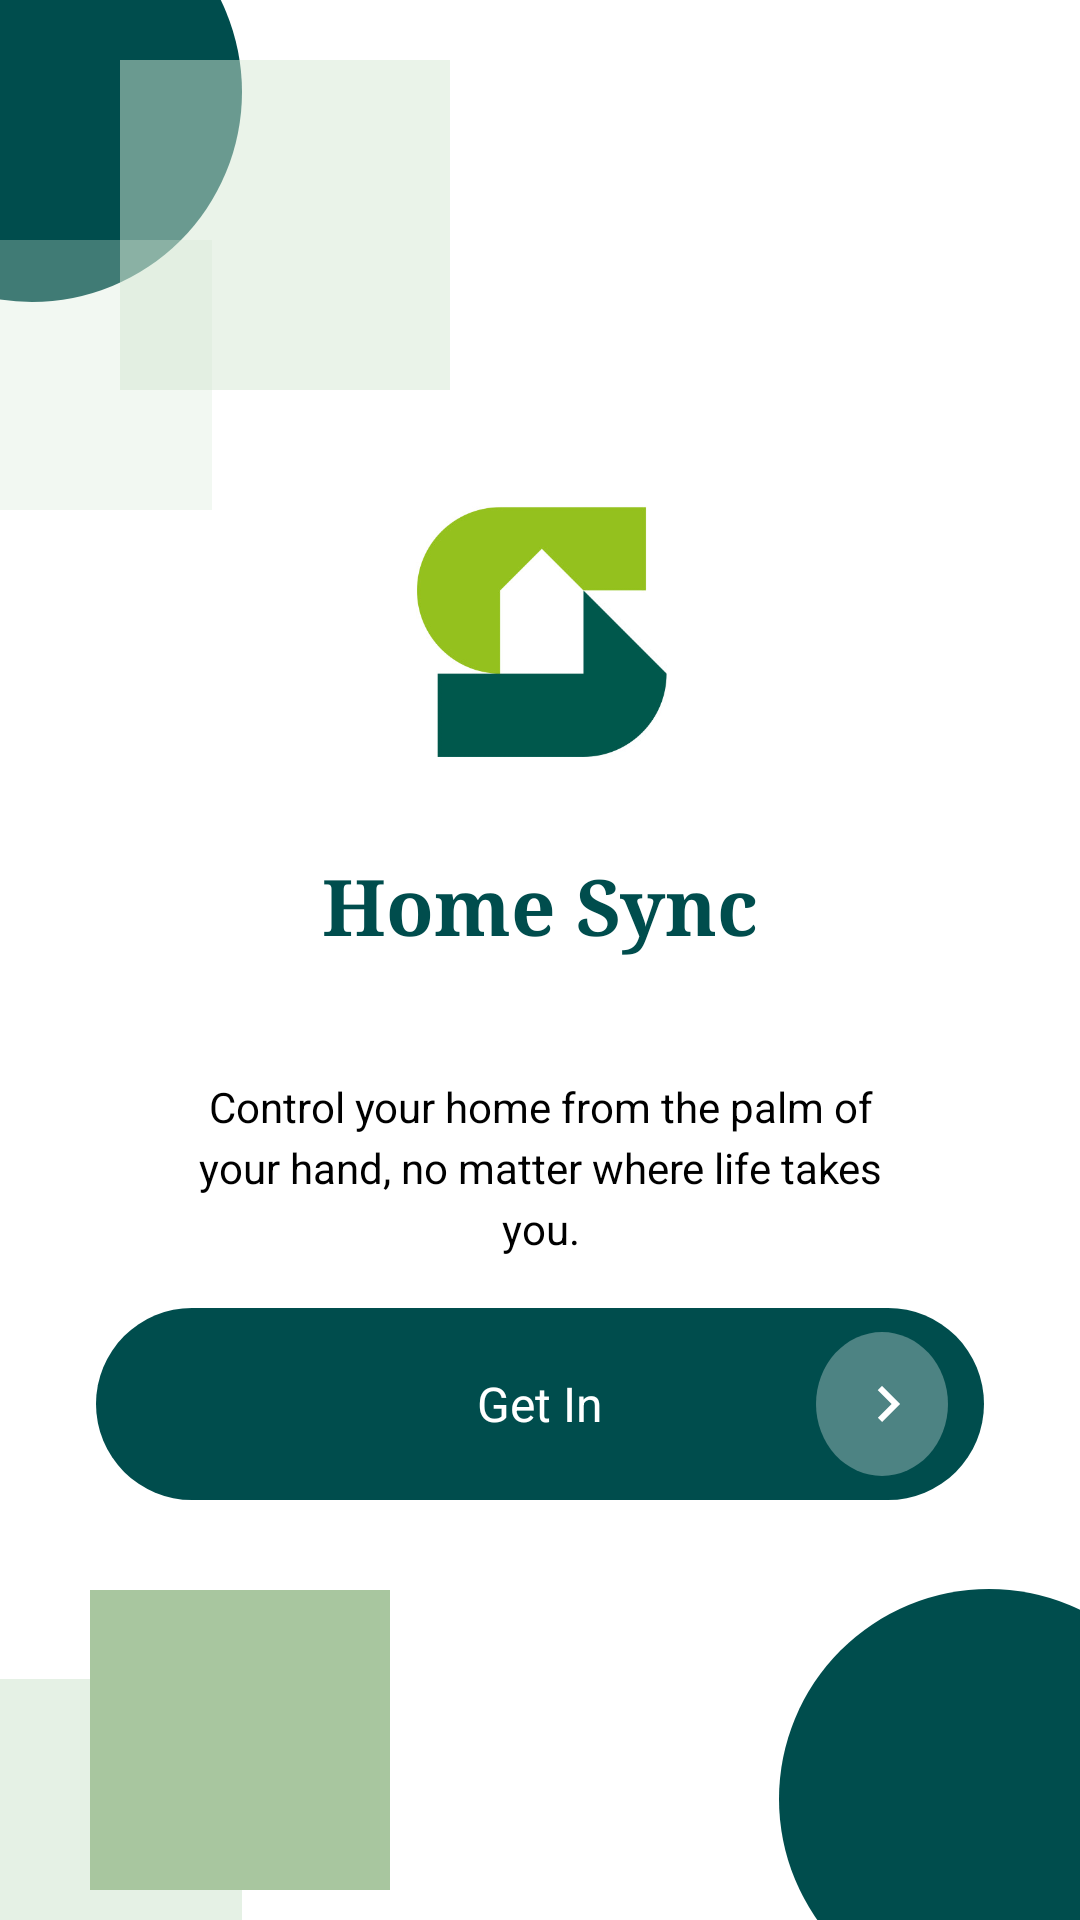

Point at icon controls on the screen. Image size 1080x1920, points as point (x, y).
arrow forward: point (889, 1404)
